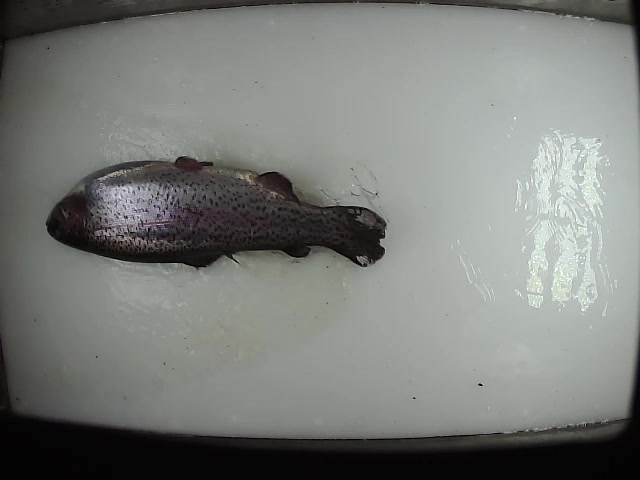fish: (44, 155, 388, 272)
